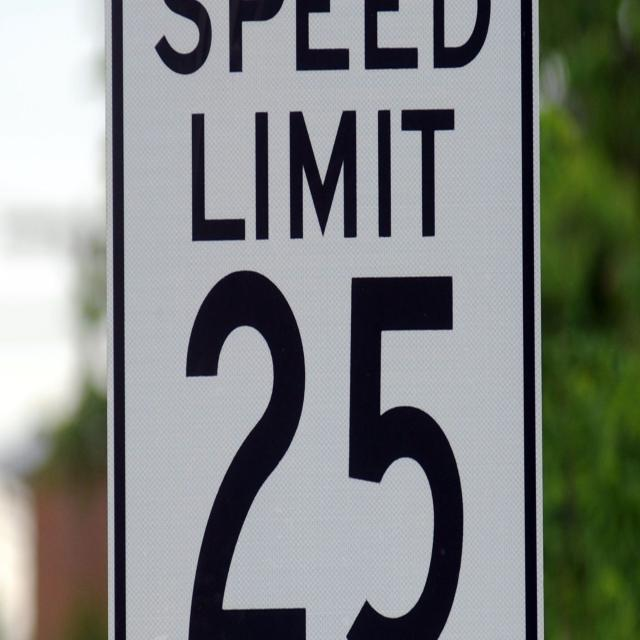speedLimit25: (107, 7, 536, 638)
